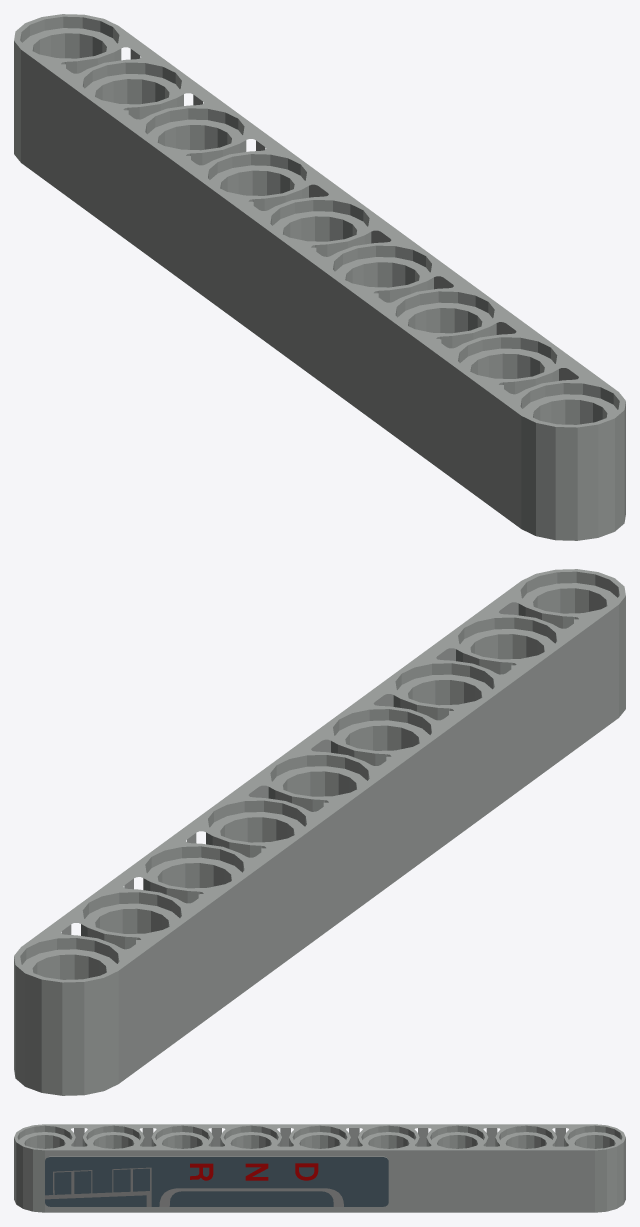
3 views of the same model, one above another, from view 1: azimuth 30°, elevation 25°; view 2: azimuth 150°, elevation 25°; view 3: azimuth 270°, elevation 25° (orthographic). The views are drawn at different scales.
Parts seen in each view (by area): view 1: world; view 2: world; view 3: world.
Boxes of the visible parts, x1,y1,x2,y2 form: world: (14,14,625,540); world: (14,569,625,1095); world: (14,1124,625,1212).
Bounding box in the file's own units: 0.0073 × 0.008 × 0.0712.
